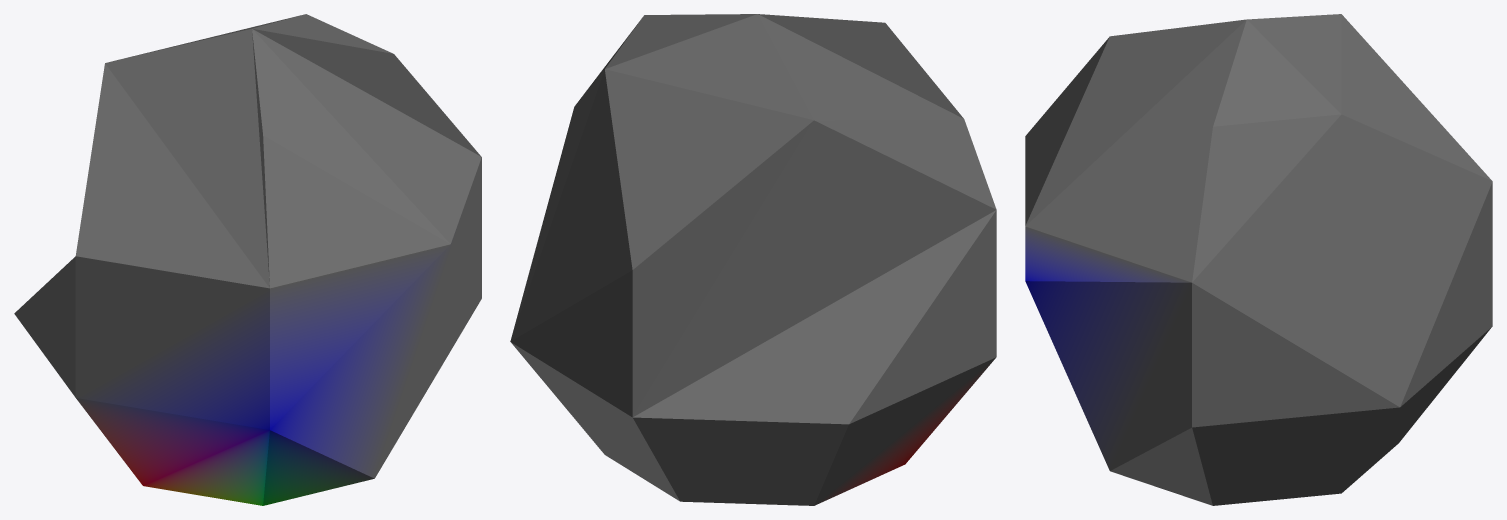
The model's file is decimating_conquest_1_16.obj.
3 views of the same model, side by side, from view 1: azimuth 30°, elevation 25°; view 2: azimuth 150°, elevation 25°; view 3: azimuth 270°, elevation 25° (orthographic). The views are drawn at different scales.
Bounding box in the file's own units: 1.85 × 2 × 1.81.
